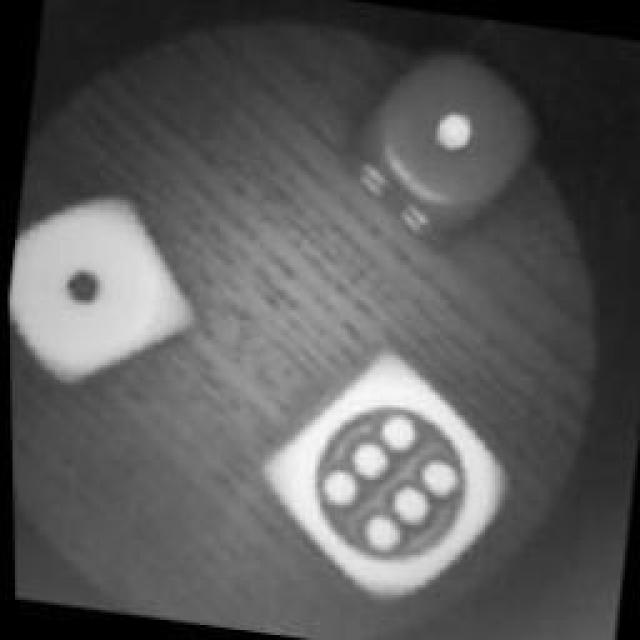dice_1: (3, 184, 208, 388), (346, 50, 546, 240)
dice_6: (238, 345, 524, 615)
